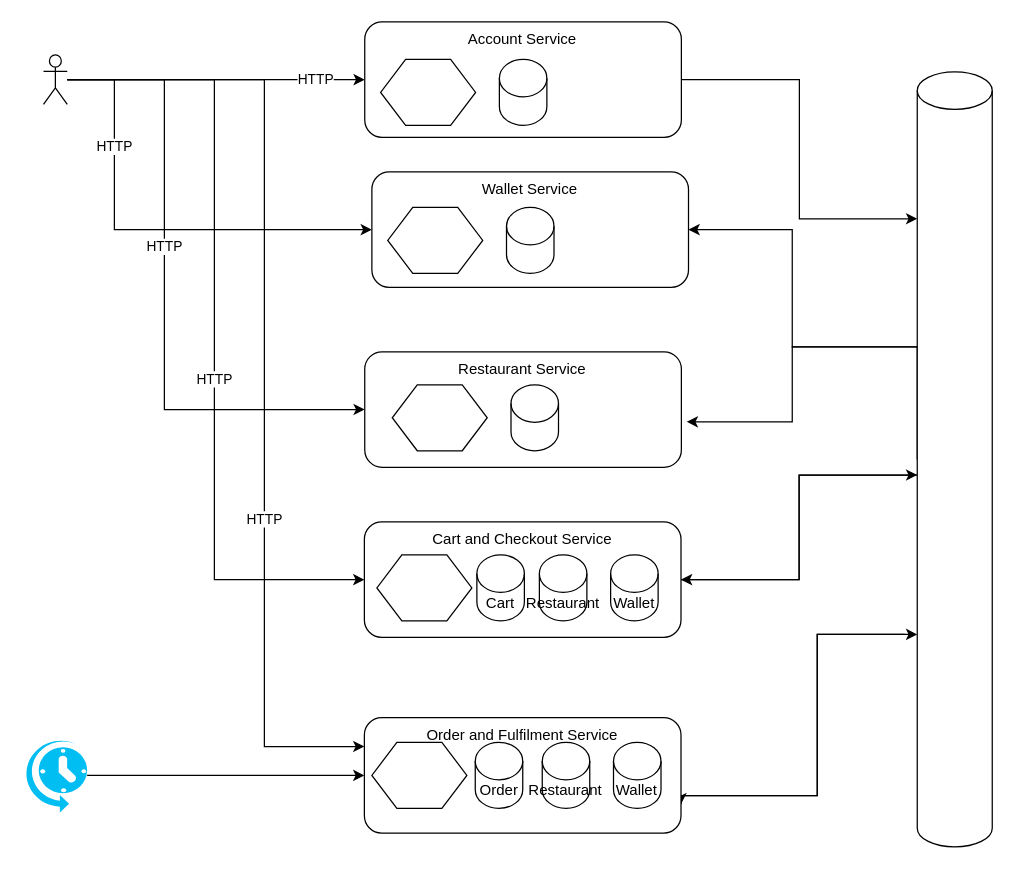
The diagram is 1015 pixels wide and 869 high, and some of its shapes have lost their labels. The shapes that lost their labels are listed below. From the top down, each one's centre as x and y in pixels, then its label:
At point (54, 79): "Actor".
At point (54, 775): "Scheduler".
